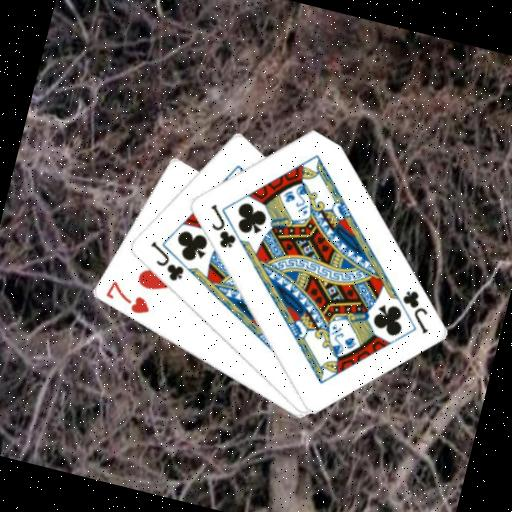7H: (99, 276, 156, 319)
JC: (139, 237, 191, 285), (198, 200, 245, 253), (392, 284, 439, 337)
